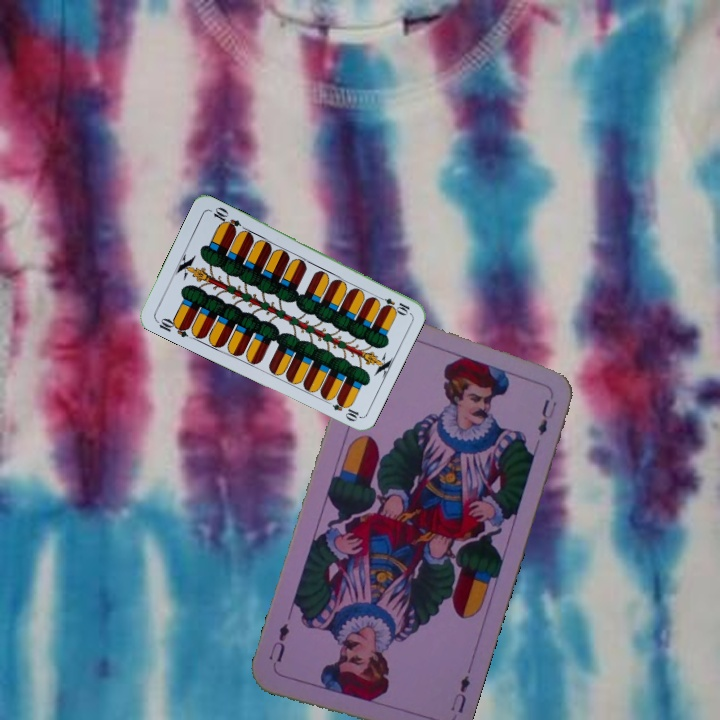E10: (152, 314, 192, 340), (373, 292, 412, 317)
EU: (446, 671, 473, 716)
